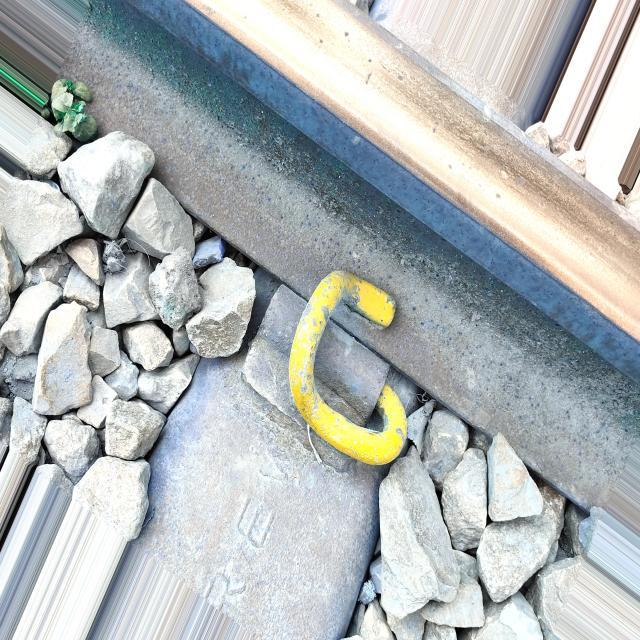Good Fasteners: (243, 271, 417, 468)
